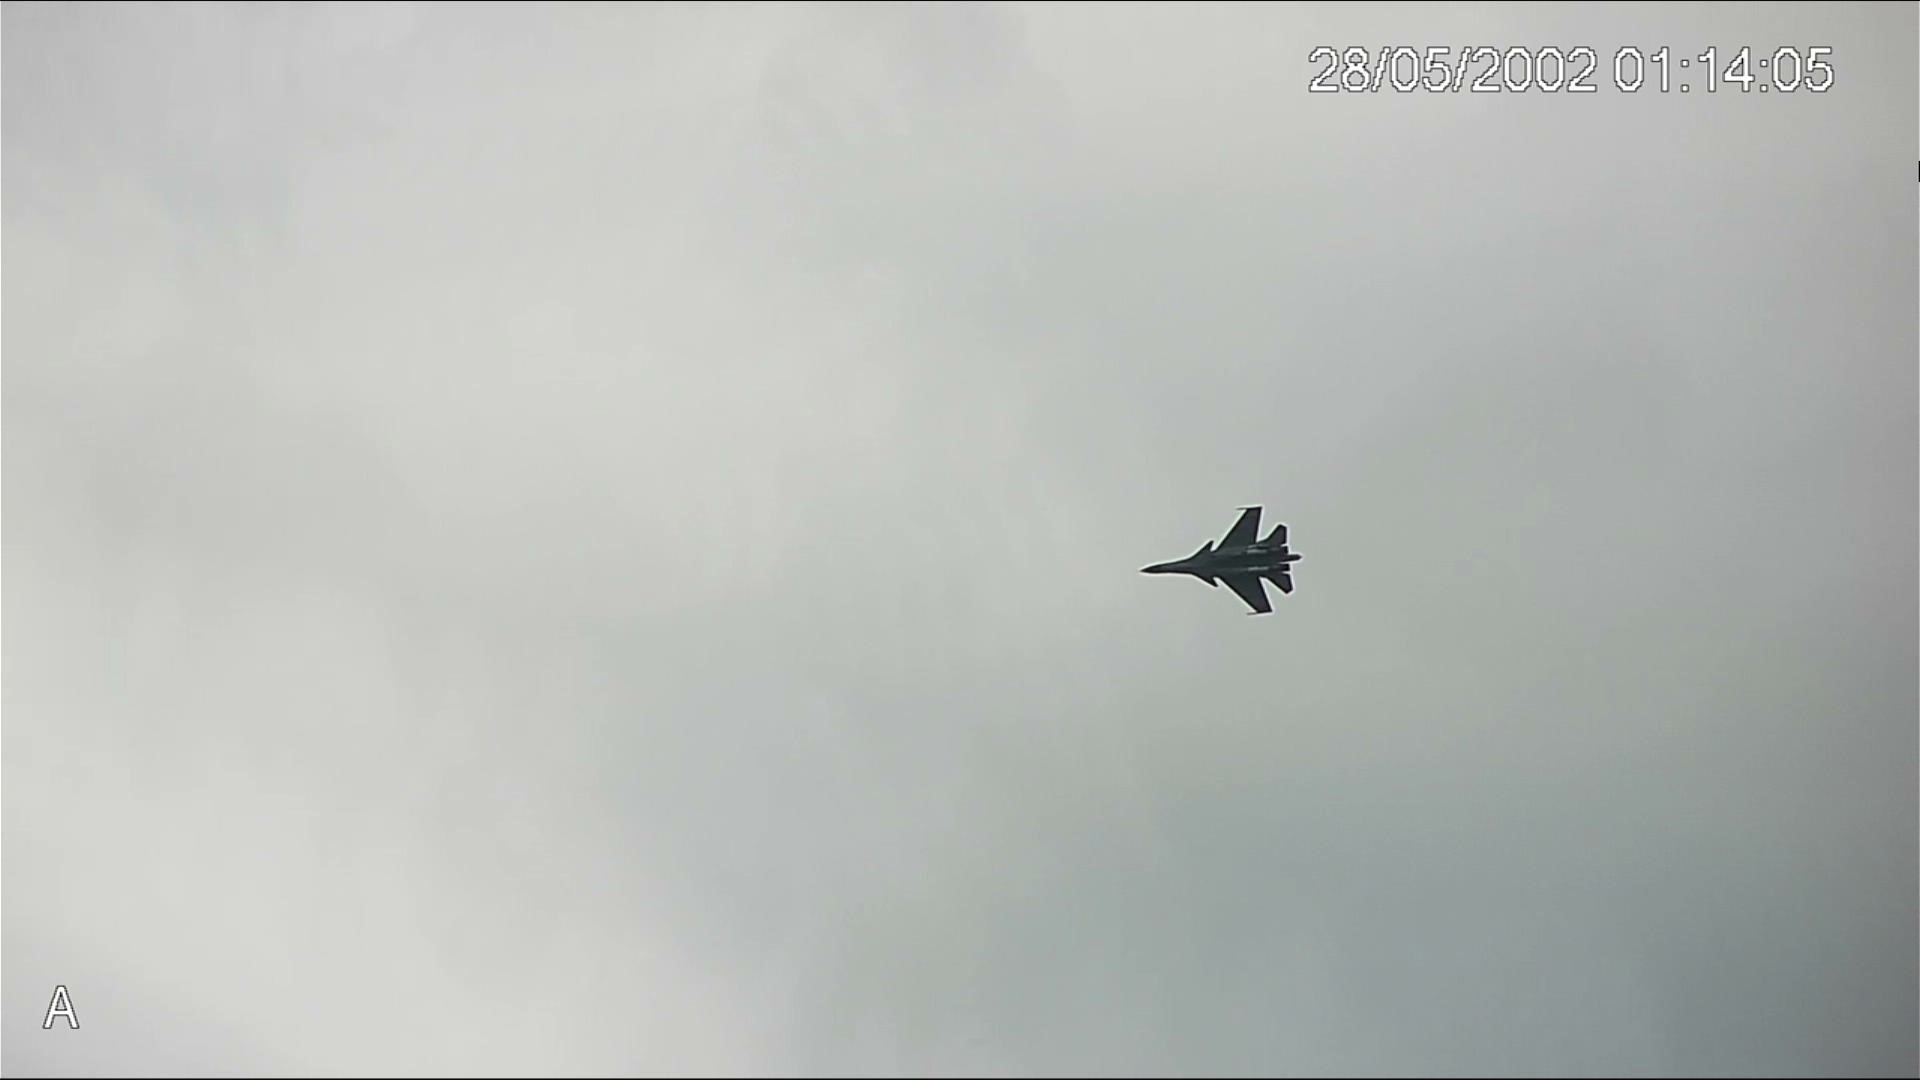SU_30: (1137, 502, 1311, 625)
